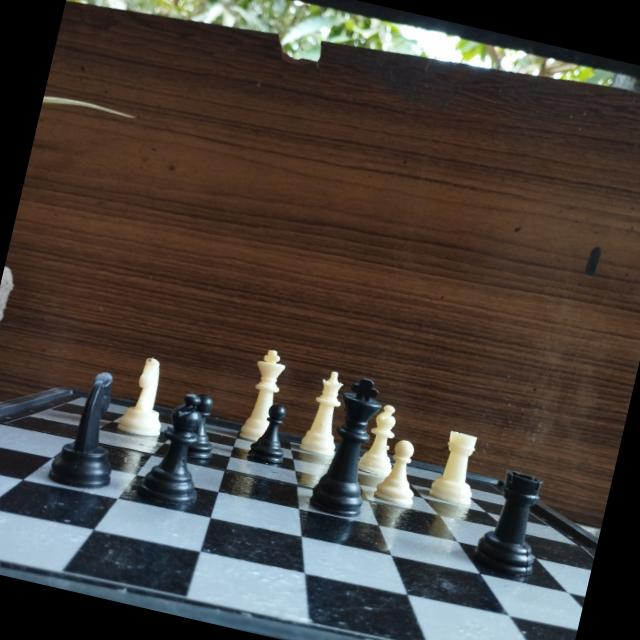Black Bishop: (138, 387, 219, 512)
Black King: (308, 368, 392, 522)
Black Knight: (48, 360, 138, 492)
Black Pawn: (247, 400, 296, 470), (183, 390, 227, 466)
Black Rook: (468, 459, 556, 579)
White Bishop: (361, 398, 405, 482)
White King: (234, 342, 298, 447)
White Knight: (113, 346, 179, 444)
White Pawn: (374, 436, 430, 514)
White Queen: (297, 362, 354, 460)
White Rook: (427, 422, 488, 508)
